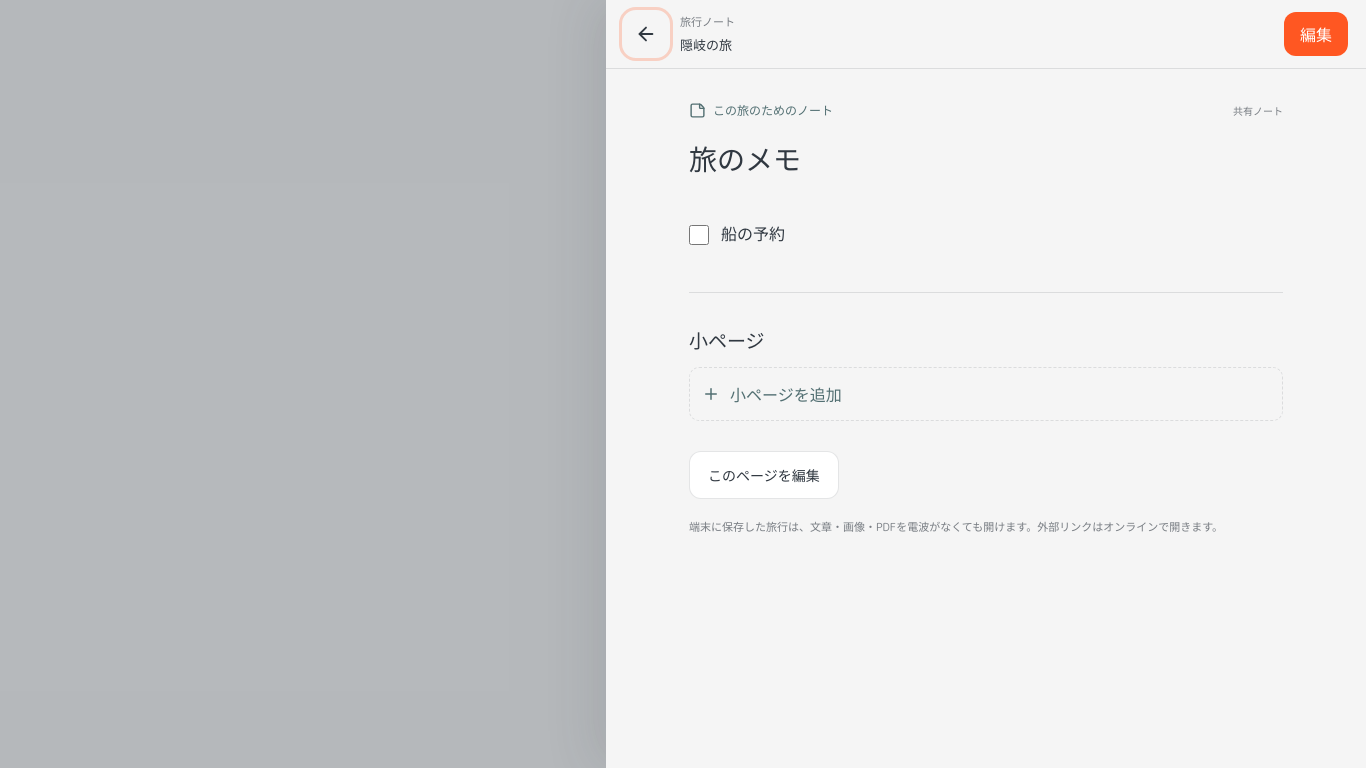
Test: creates a nested page with its persisted parent and opens its editor
Click the button "小ページを追加" at (786, 395), box left=689, top=367, right=1283, bottom=421
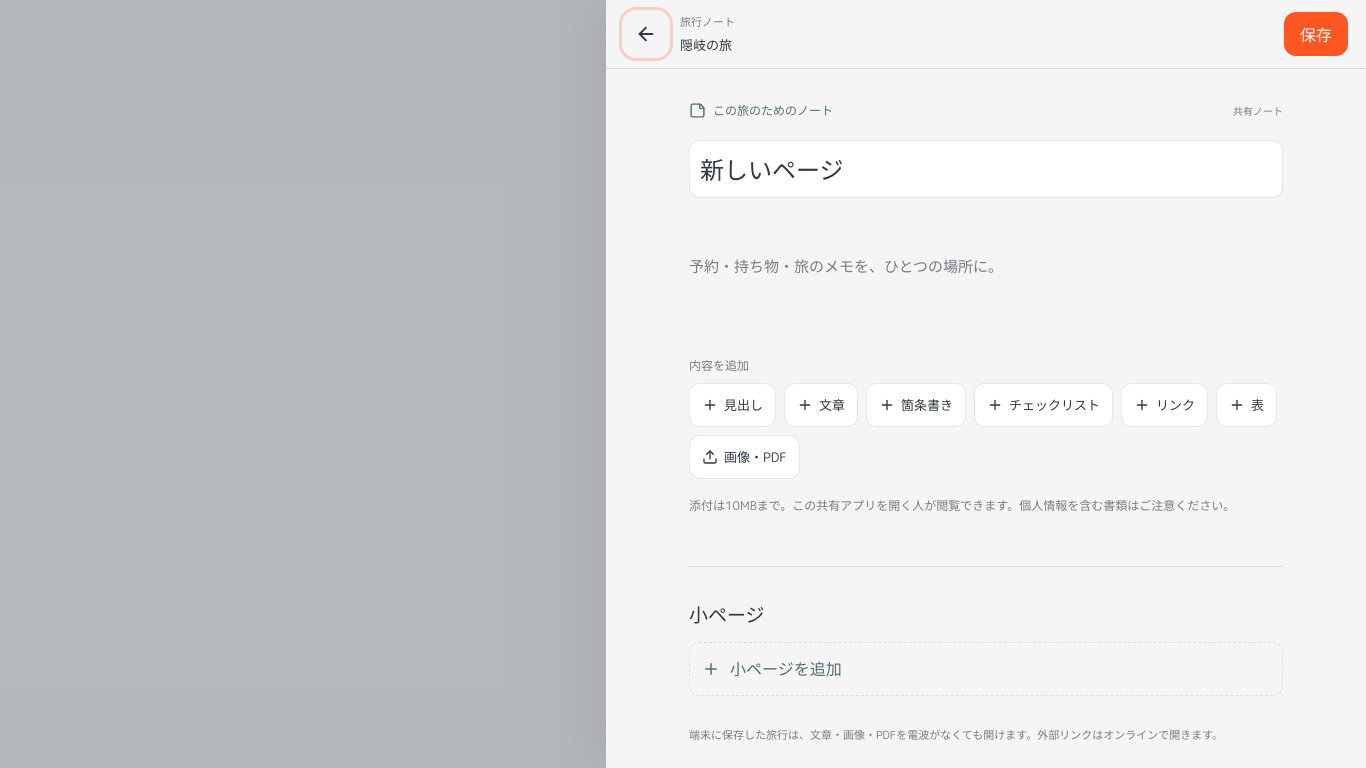
expect the field named "ページタイトル" holds "新しいページ": met, box left=689, top=140, right=1283, bottom=198
